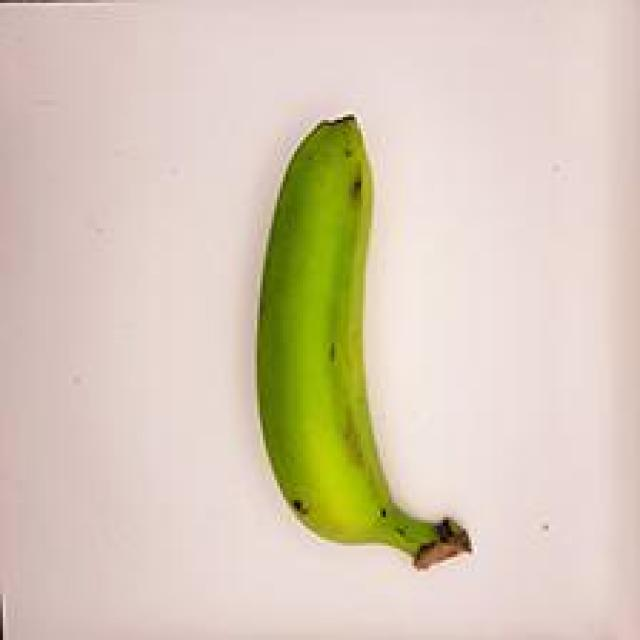unripe: (231, 98, 507, 606)
